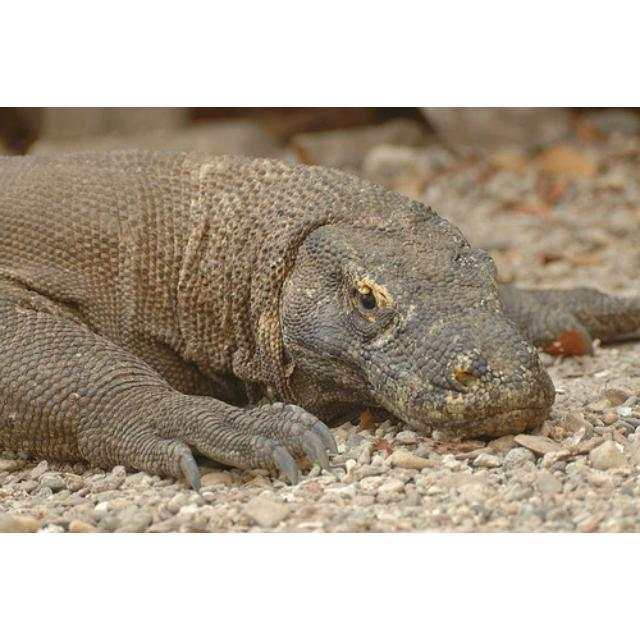KomodoDragon: (1, 152, 638, 504)
